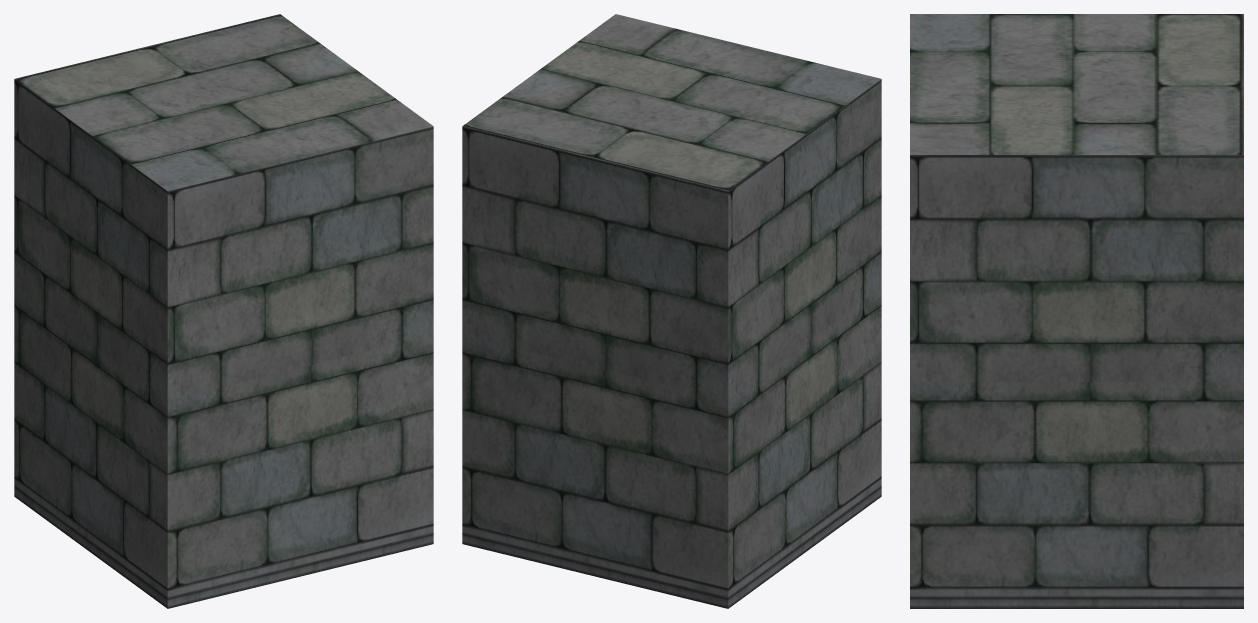
The model's file is block_small_01.glb.
3 views of the same model, side by side, from view 1: azimuth 30°, elevation 25°; view 2: azimuth 150°, elevation 25°; view 3: azimuth 270°, elevation 25° (orthographic). The views are drawn at different scales.
Parts seen in each view (by area): view 1: block_small_01; view 2: block_small_01; view 3: block_small_01.
Part boxes in pixels (x1,y1,x2,y2): block_small_01: [14, 14, 433, 608]; block_small_01: [462, 14, 881, 608]; block_small_01: [910, 14, 1243, 608].
Size of the model in its own units: 2 by 3 by 2.
Materials: 1 (1 with a texture image).
